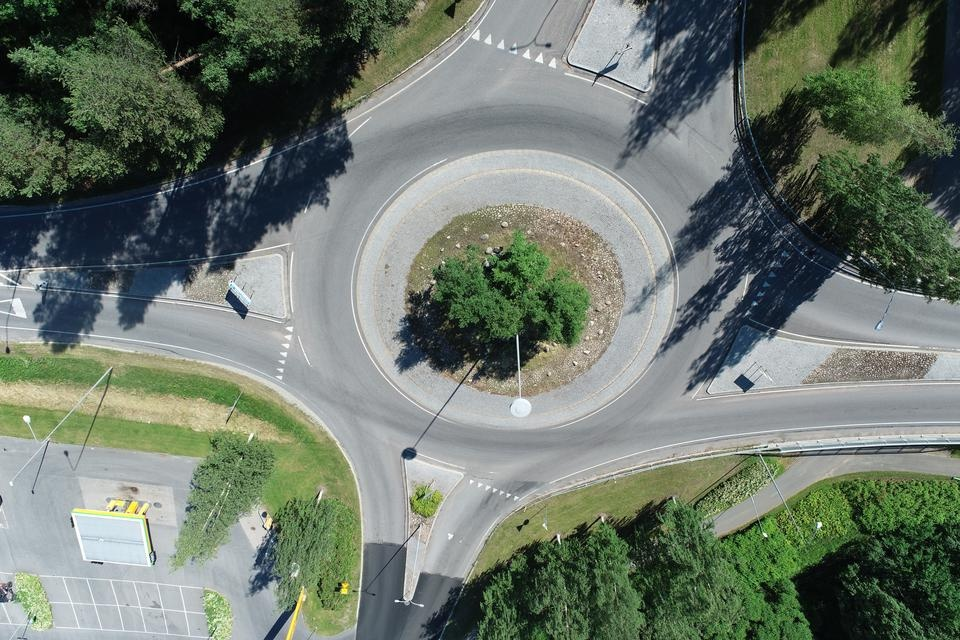roundabout: (223, 19, 818, 516)
